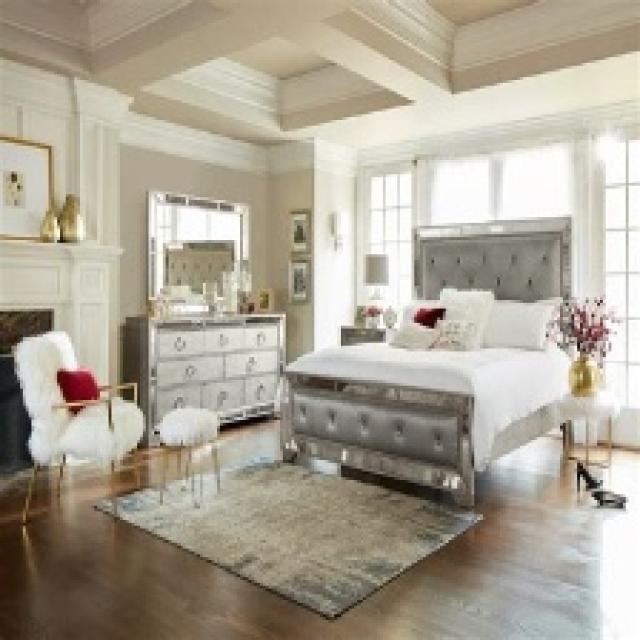Bed: (277, 214, 574, 506)
